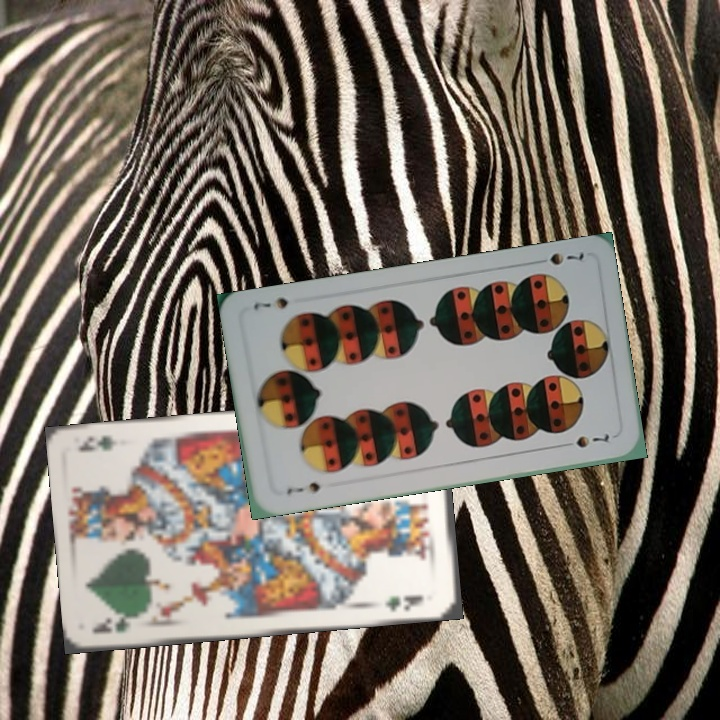GK: (89, 612, 143, 637)
S7: (530, 249, 587, 268), (282, 478, 323, 498)
